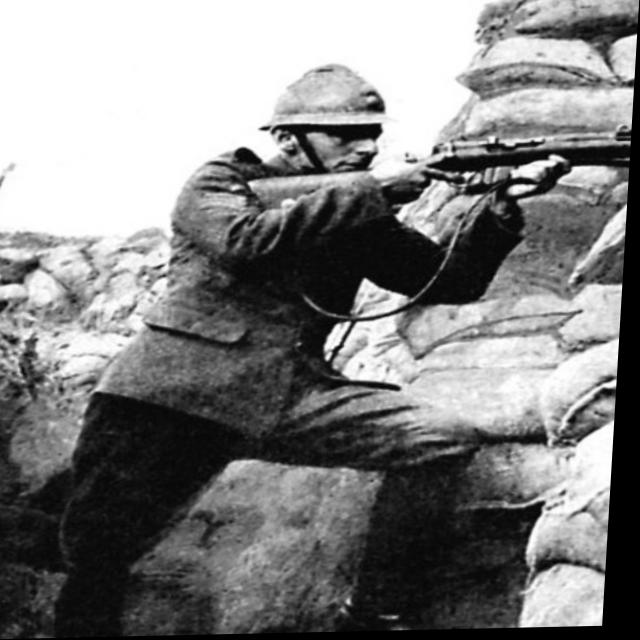other: (57, 55, 493, 635)
